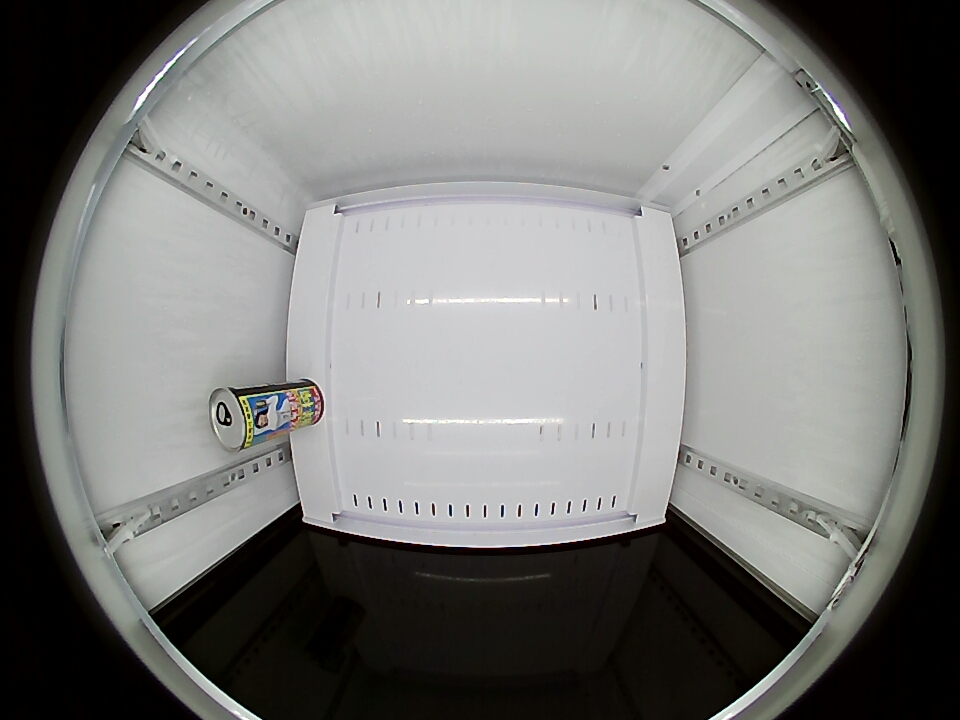yezhi: (209, 384, 263, 452)
